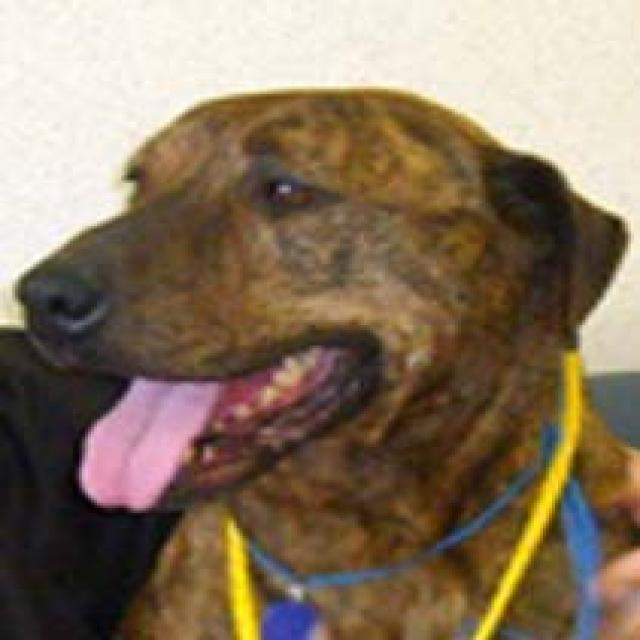Dogs: (0, 84, 637, 637)
